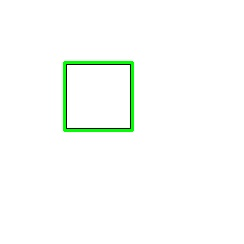line_segment: (63, 61, 134, 132)
